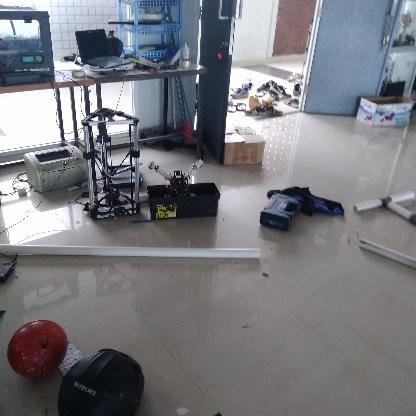red_buoy: (8, 318, 68, 378)
